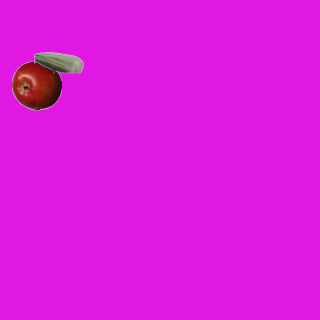Apple Braeburn: (11, 60, 61, 110)
Corn Husk: (33, 37, 83, 87)
